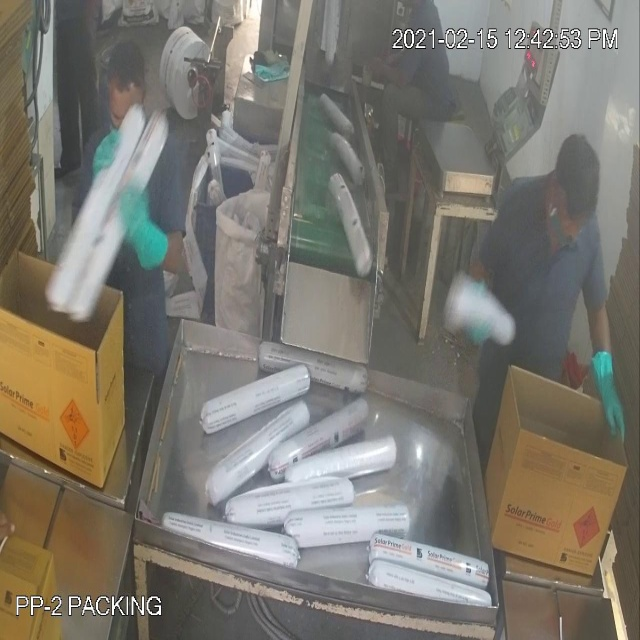Guantes: (113, 183, 186, 286), (590, 339, 633, 451)
Sin_guantes: (366, 55, 416, 103)
